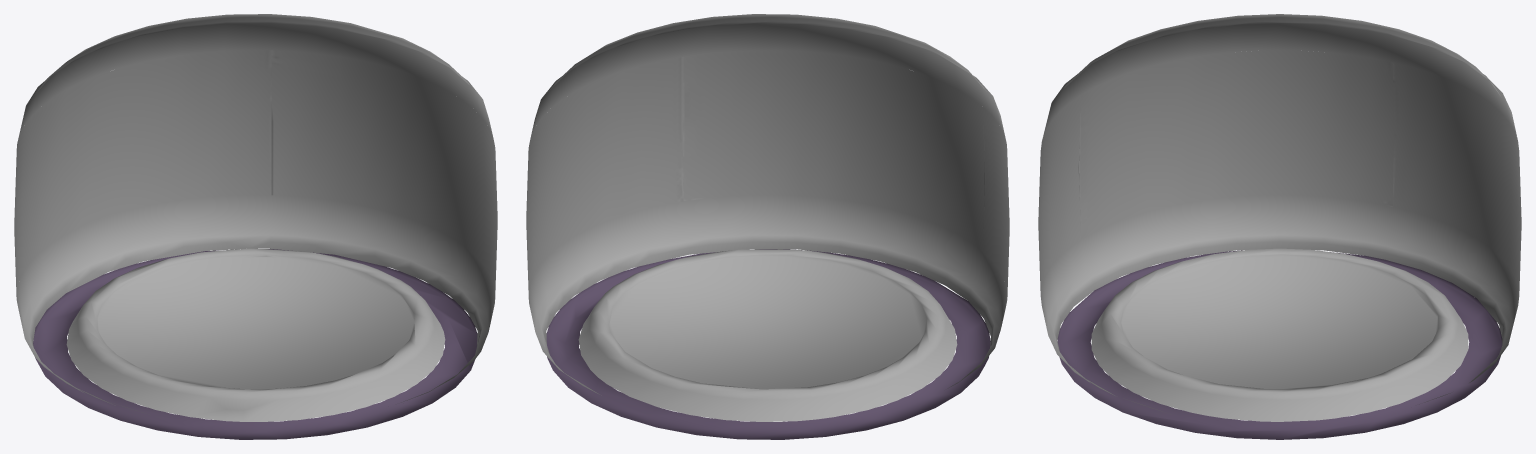
File: dome.glb
The picture shows the model from 3 angles, left to right: view 1: azimuth 30°, elevation 25°; view 2: azimuth 150°, elevation 25°; view 3: azimuth 270°, elevation 25°; orthographic projection.
Parts seen in each view (by area): view 1: Dome_Metal_0, Dome_Glass_0, Dome_Rim_0; view 2: Dome_Metal_0, Dome_Glass_0, Dome_Rim_0; view 3: Dome_Metal_0, Dome_Glass_0, Dome_Rim_0.
Part boxes in pixels (x1,y1,x2,y2): Dome_Metal_0: (16,14,495,421); Dome_Glass_0: (14,50,497,296); Dome_Rim_0: (33,248,477,439); Dome_Metal_0: (528,14,1007,421); Dome_Glass_0: (526,50,1009,296); Dome_Rim_0: (546,249,990,439); Dome_Metal_0: (1040,14,1519,421); Dome_Glass_0: (1038,50,1521,294); Dome_Rim_0: (1057,250,1502,439).
Bounding box in the file's own units: 6.08 × 3.4 × 6.08.
4 materials, 1 textured.
